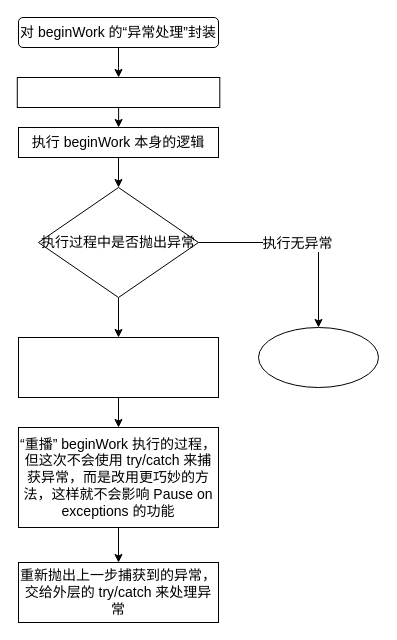
Image size: 397x640. Some labels were removed from this diagram. The box of each missing label's shape, as (x1, y1, x2, y2) in pixels:
"备份"当前的 Fiber 节点属性: (16, 76, 220, 108)
从“备份”中恢复当前 Fiber 节点到执行 beginWork 前的状态: (18, 336, 218, 398)
结束当前封装的逻辑: (258, 326, 378, 388)
